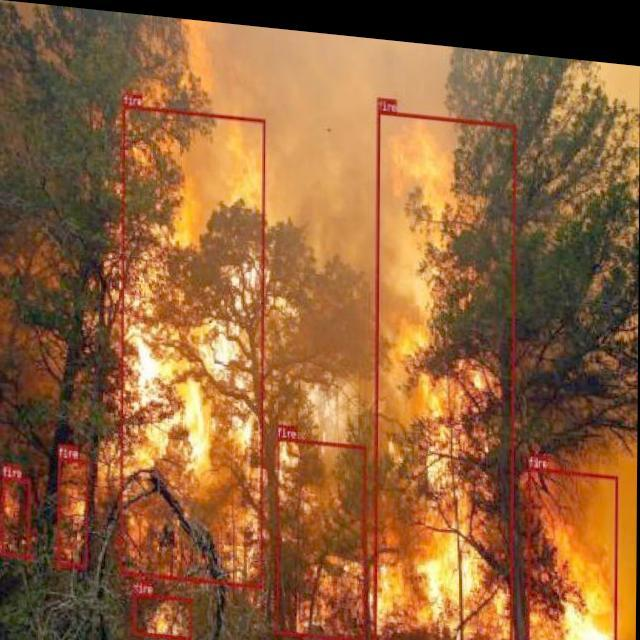Fire: (365, 88, 518, 627), (115, 101, 249, 570), (380, 456, 631, 640)
Smoke: (147, 14, 483, 543)
